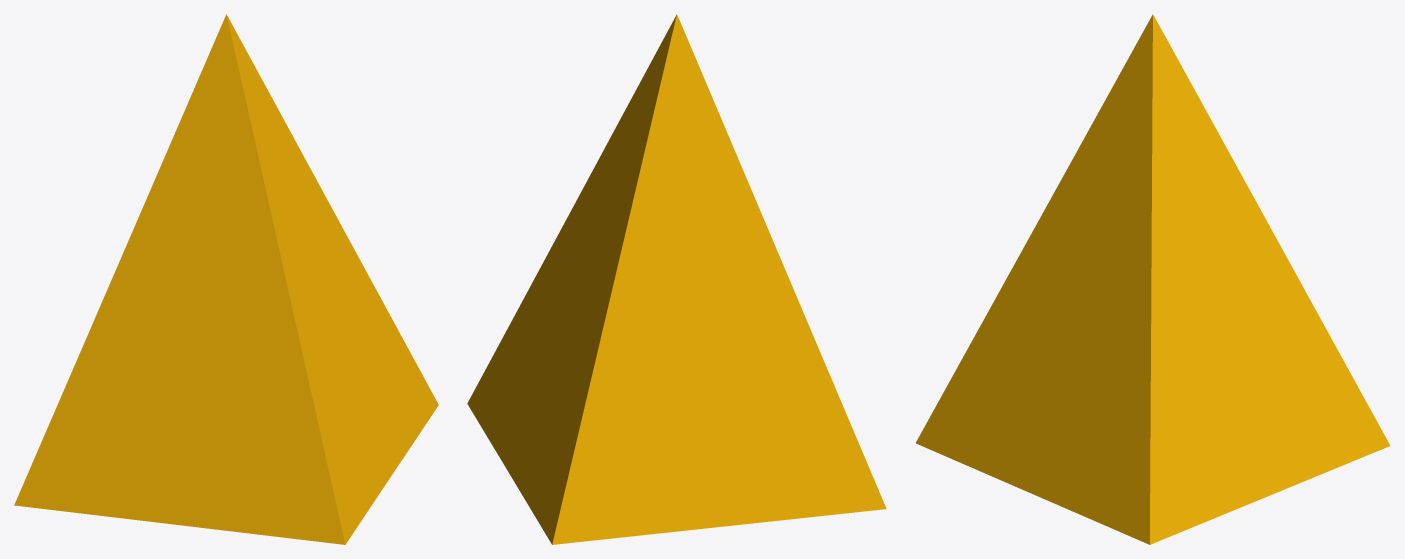
File: Prisma Pentagonal.006.glb
3 renders of one model, left to right at view 1: azimuth 30°, elevation 25°; view 2: azimuth 150°, elevation 25°; view 3: azimuth 270°, elevation 25°, orthographic. The views are drawn at different scales.
Visible parts, largest first — view 1: Prisma Pentagonal.006; view 2: Prisma Pentagonal.006; view 3: Prisma Pentagonal.006.
Boxes of the visible parts, bbox=[...] form: Prisma Pentagonal.006: bbox=[14, 14, 438, 544]; Prisma Pentagonal.006: bbox=[467, 14, 886, 544]; Prisma Pentagonal.006: bbox=[916, 14, 1390, 544].
Size of the model in its own units: 2 by 2 by 2.
